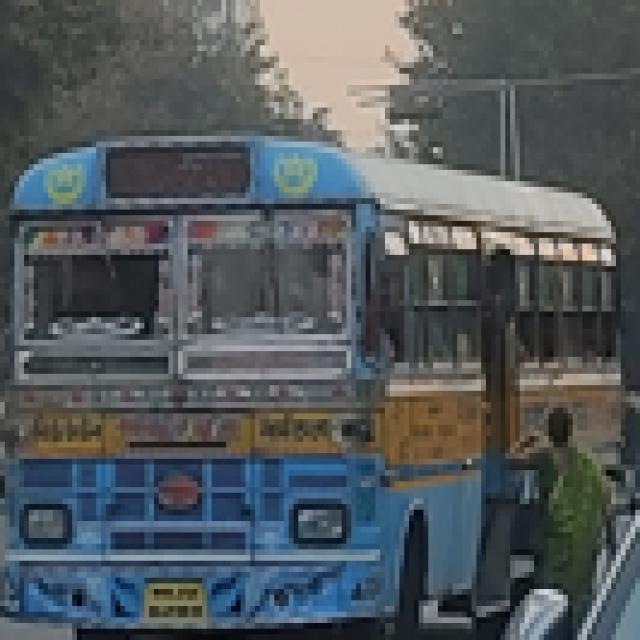bus: (4, 113, 626, 640)
